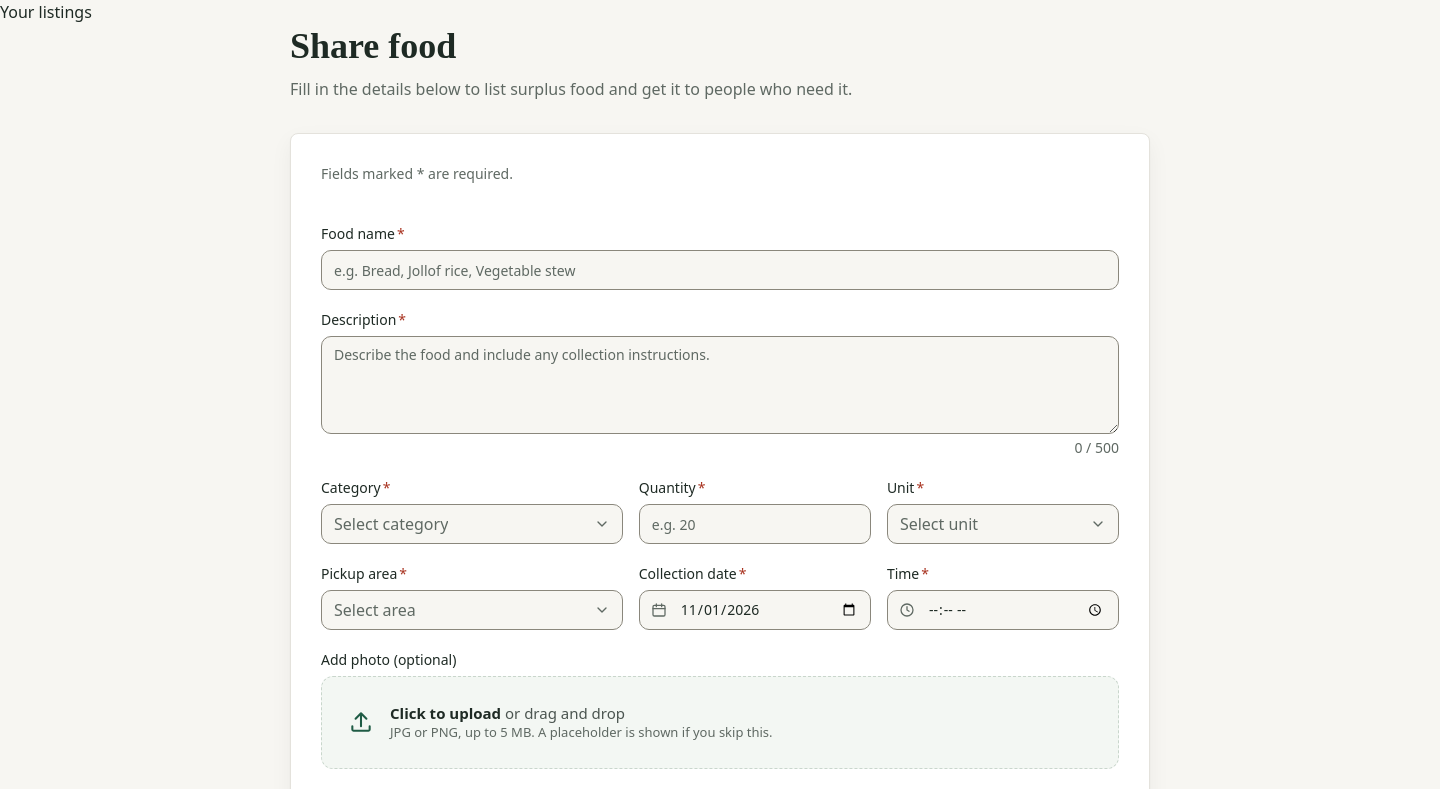
Test: Share food: leaving with changes › leaves when Leave is chosen
In the field labelled "Food name*": (720,270) [321,250,1119,290], type "Puff-puff"
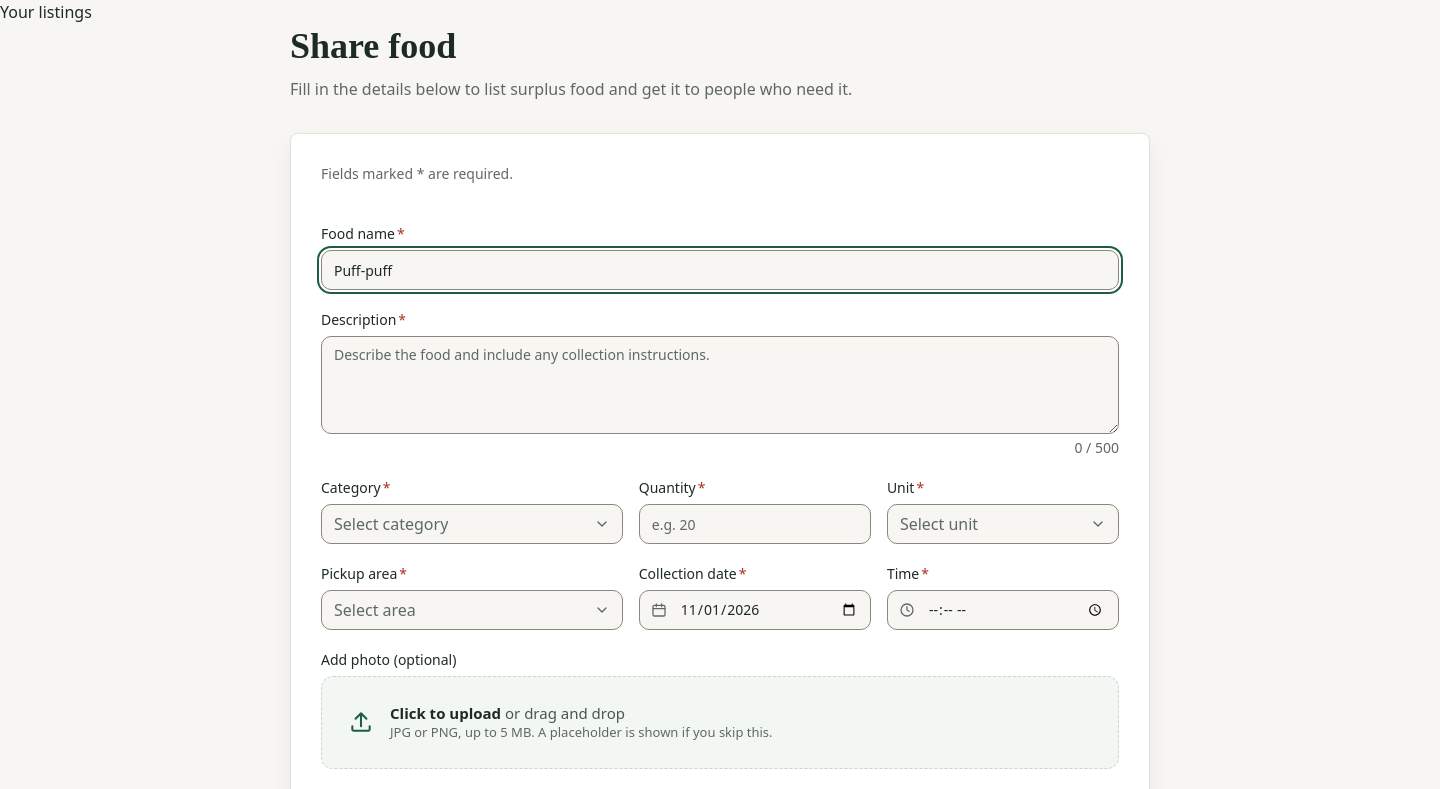
Click the link "Your listings": (46,12) [0,1,92,23]
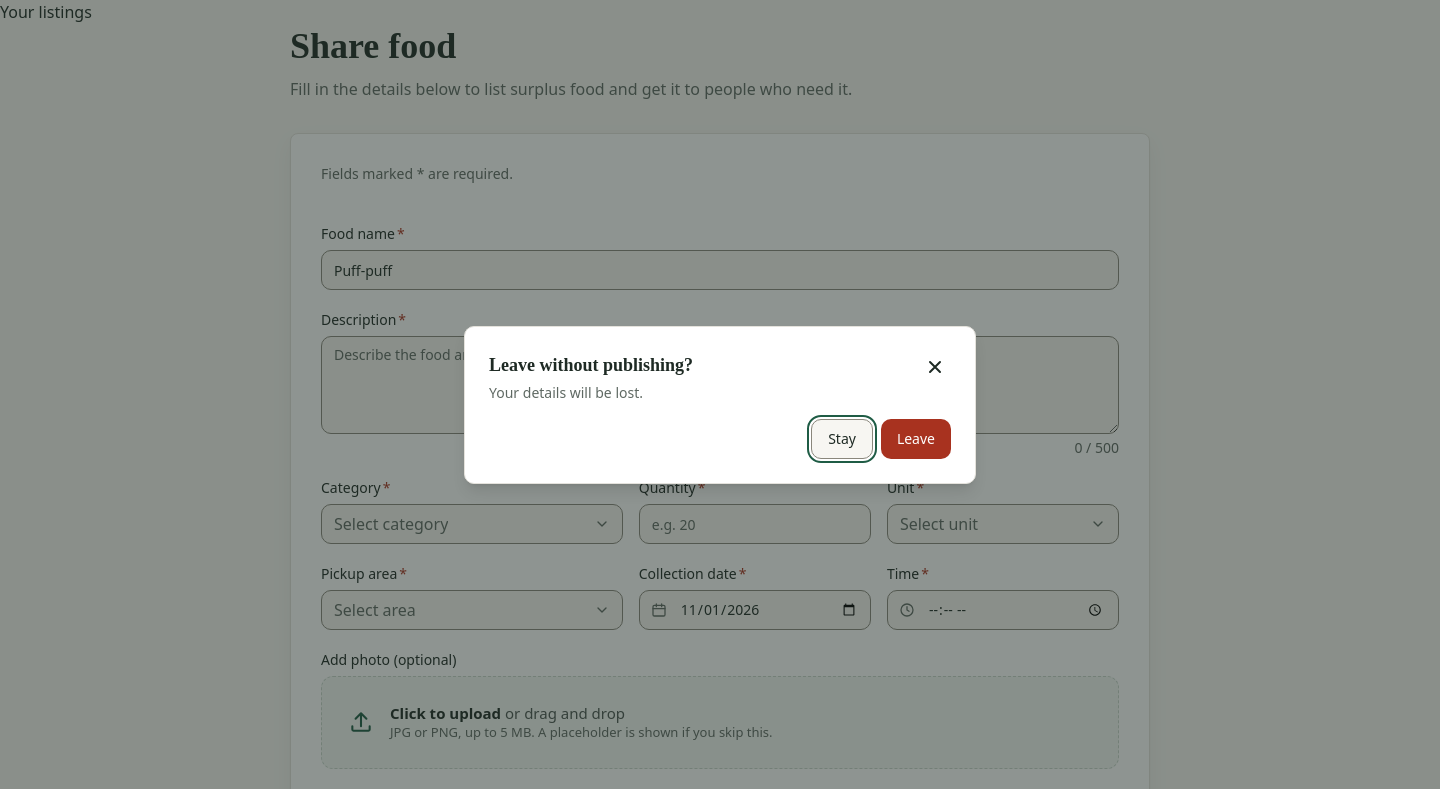
Click the button "Leave": (916,439) [881,419,951,459]
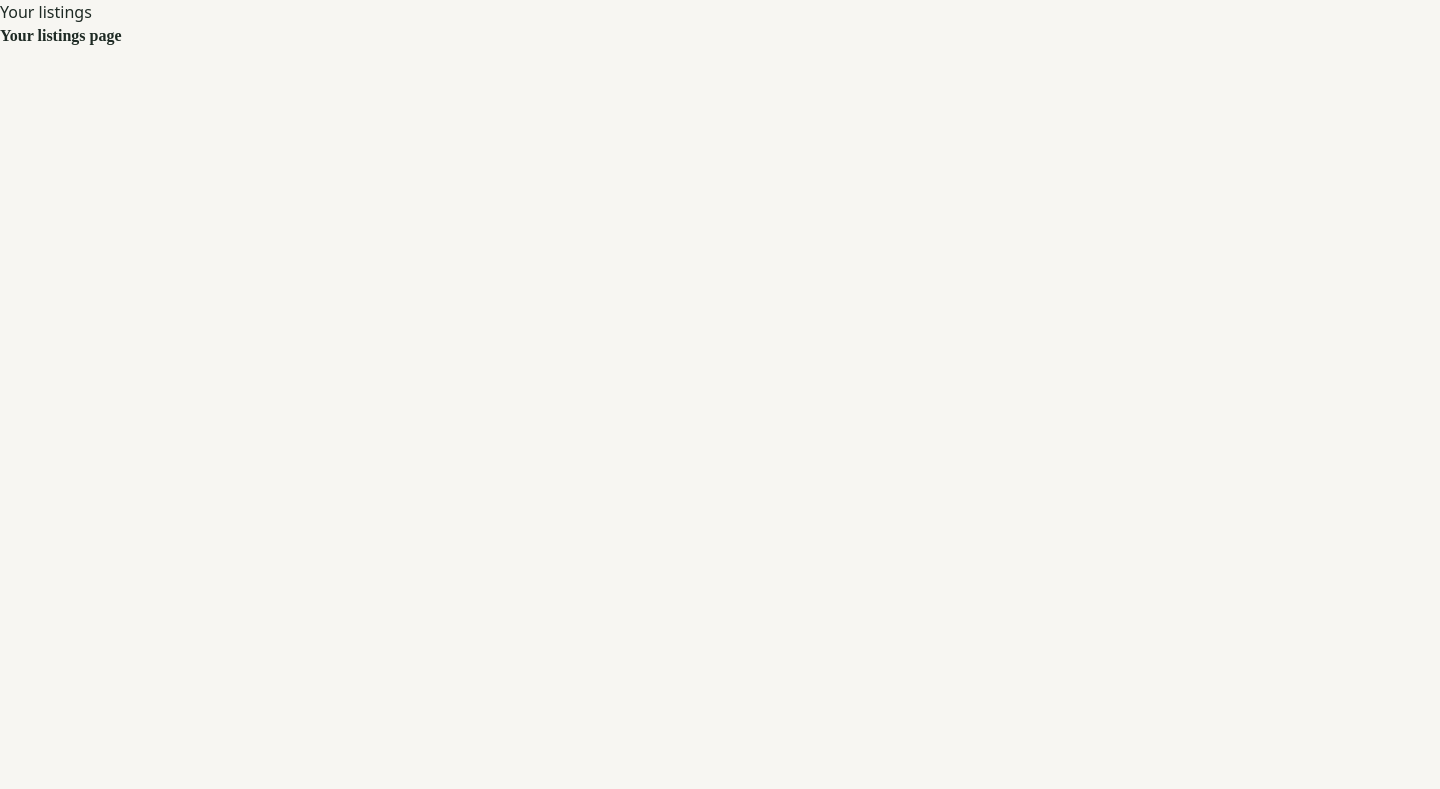
Expected: the heading "Your listings page" is shown, [0,27,122,44]
